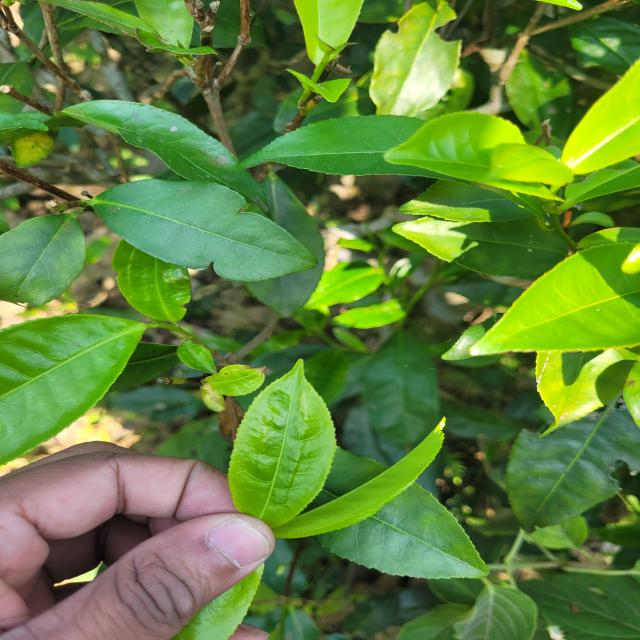Catagory A(1-2 days): (212, 347, 358, 559)
